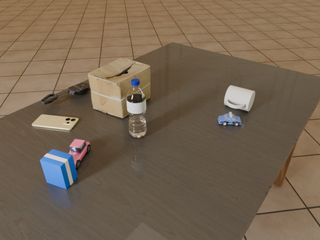bottle: (127, 79, 147, 138)
box: (88, 58, 150, 118), (40, 149, 77, 189)
cup: (224, 85, 255, 111)
mouse: (67, 83, 91, 95)
phone: (32, 115, 79, 130)
toy_car: (69, 139, 91, 168), (218, 112, 242, 126)
